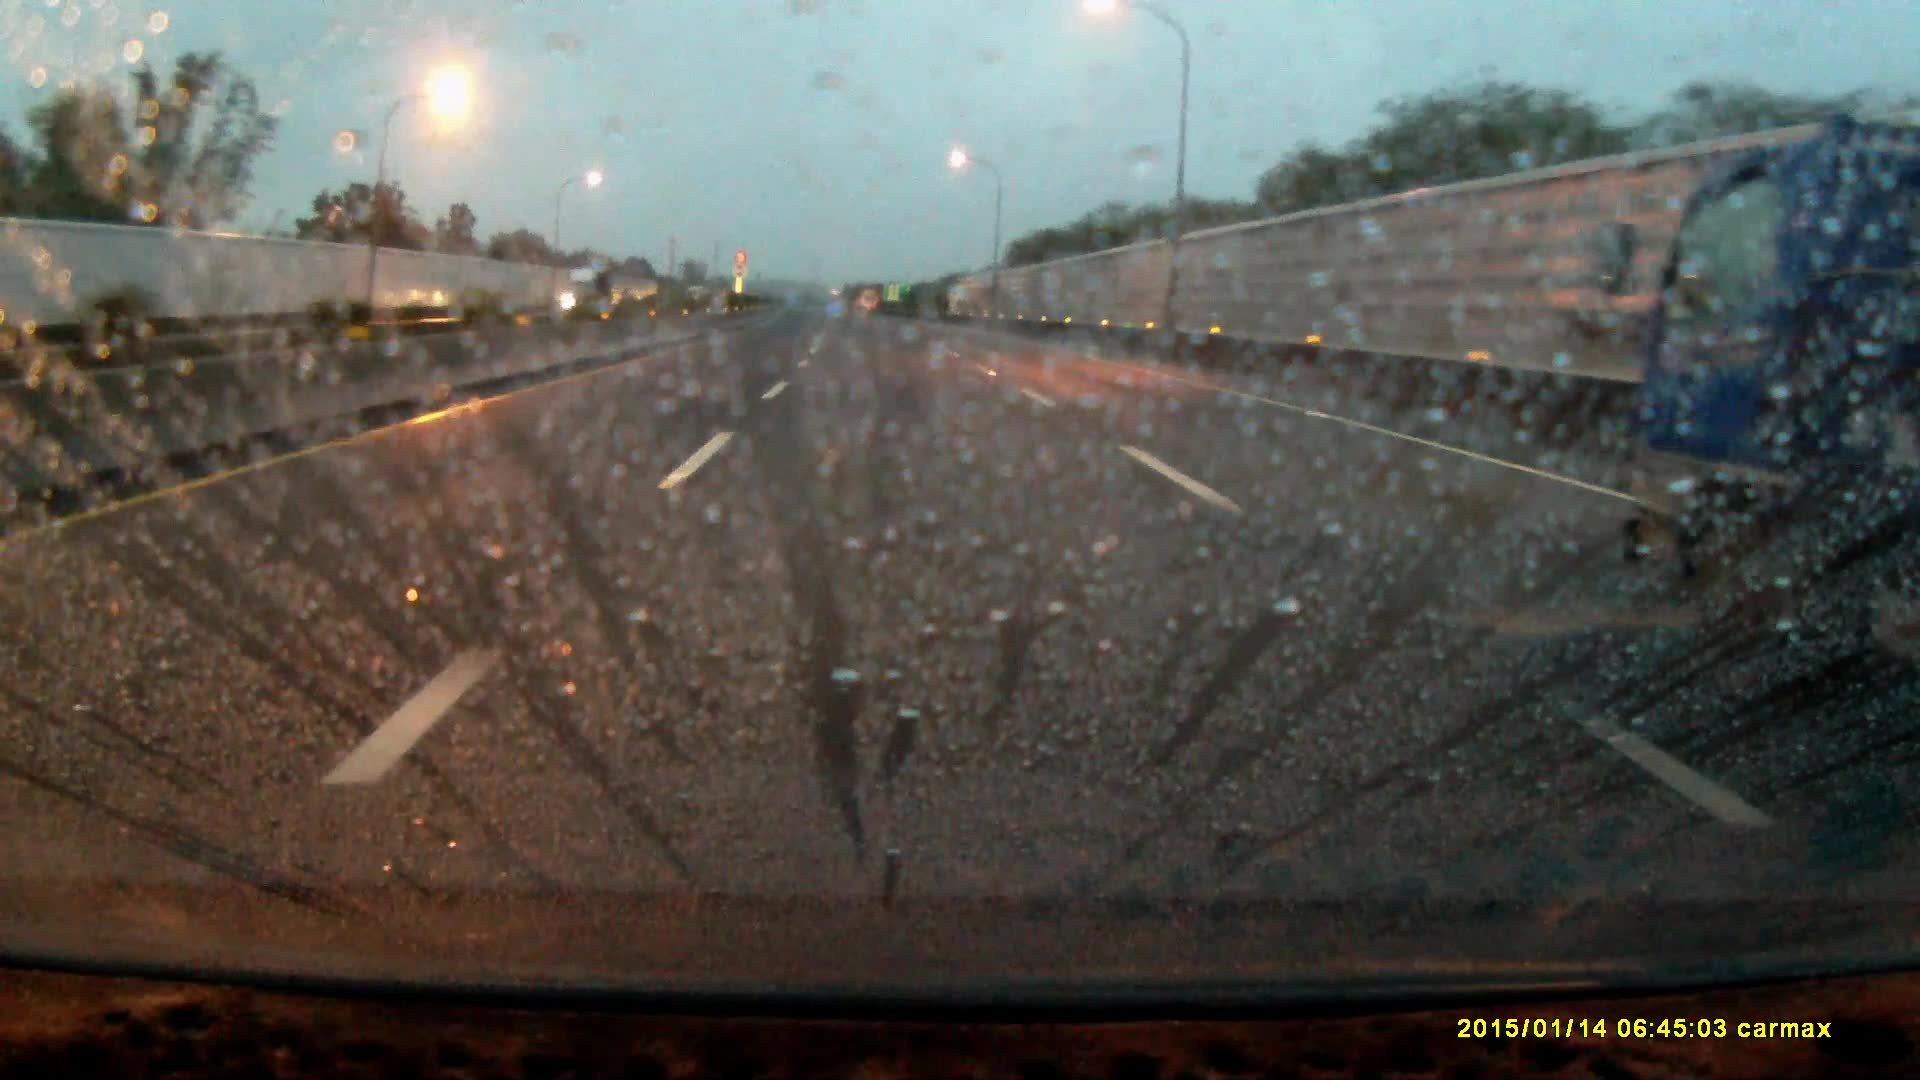vehicle: (1613, 135, 1920, 607), (567, 269, 611, 314)
